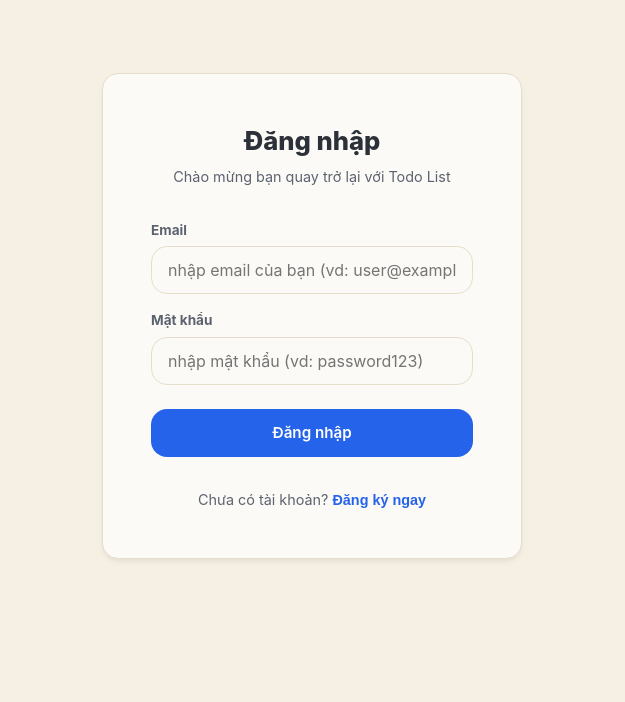
Scenario: Kiểm thử Luồng Đăng nhập, Đăng ký & Đăng xuất › Cho phép đăng ký tài khoản mới thành công
The width and height of the screenshot is (625, 702).
Note: Sang màn hình đăng ký
Click the button "Đăng ký ngay" at (379, 500), box [332, 492, 426, 508]
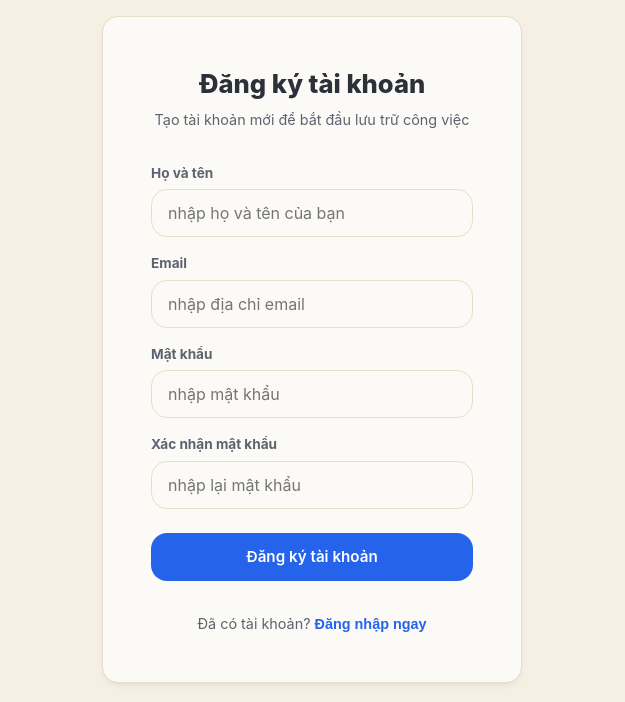
Type "Nguyễn Văn A" into the field labelled "Họ và tên" at (312, 213), box [151, 189, 473, 237]
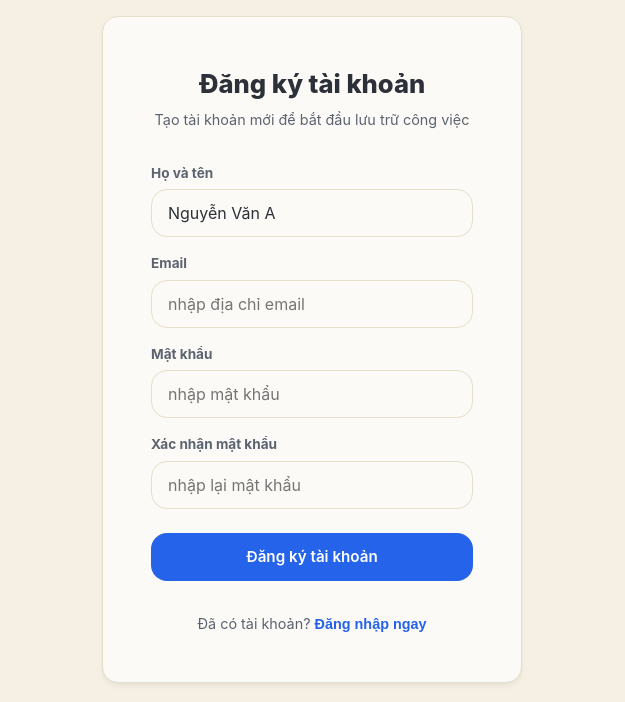
Type "newuser@example.com" into the field labelled "Email" at (312, 304), box [151, 280, 473, 328]
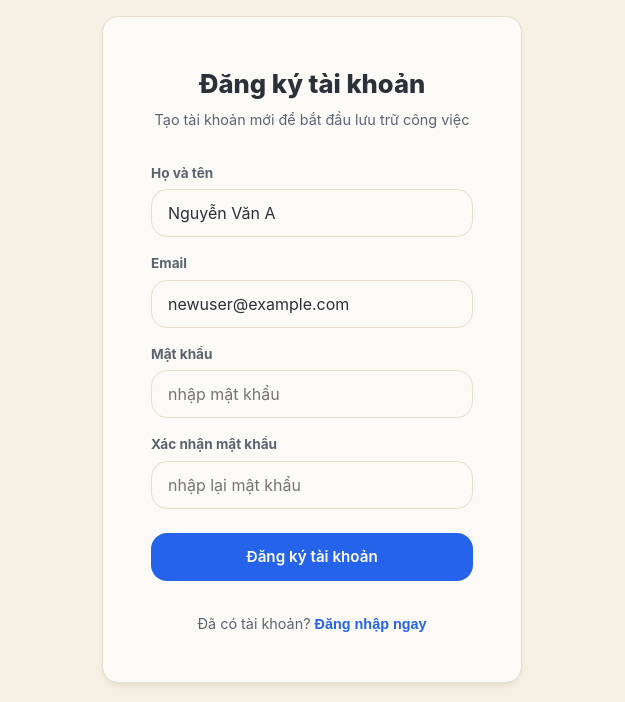
Type "mypassword" into the password field labelled "Mật khẩu" at (312, 394), box [151, 370, 473, 418]
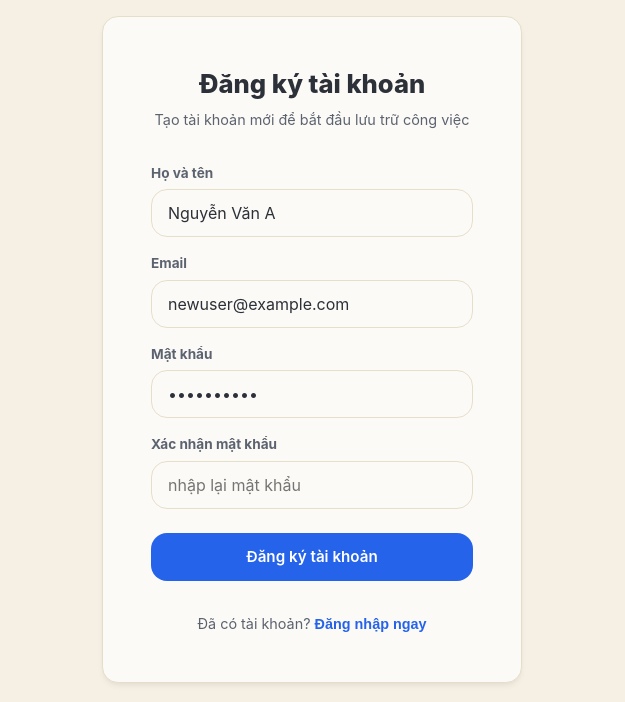
Type "mypassword" into the password field labelled "Xác nhận mật khẩu" at (312, 485), box [151, 461, 473, 509]
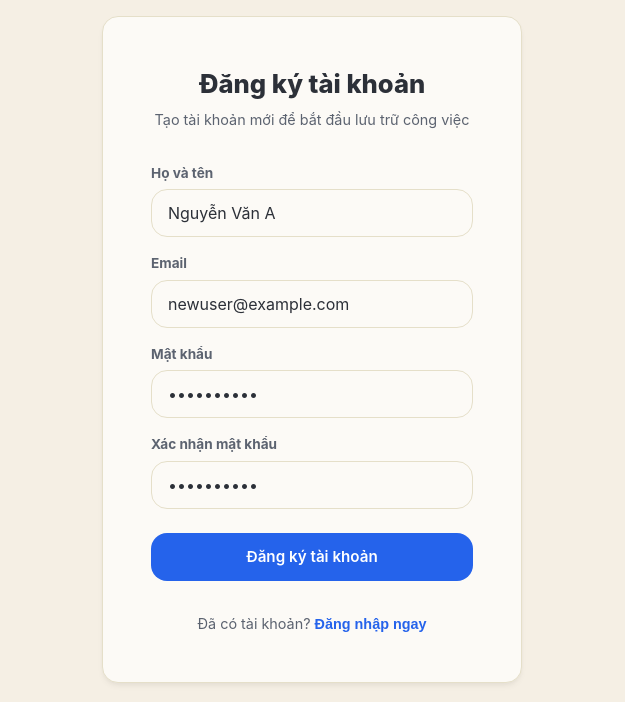
Click the button "Đăng ký tài khoản" at (312, 557), box [151, 533, 473, 581]
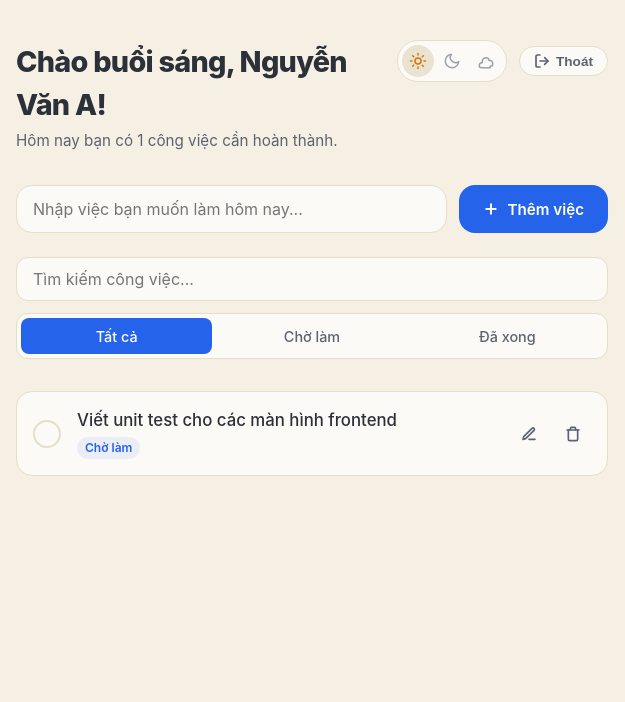
Check: the heading "Chào buổi sáng, Nguyễn Văn A!" is shown, box [16, 40, 397, 126]
